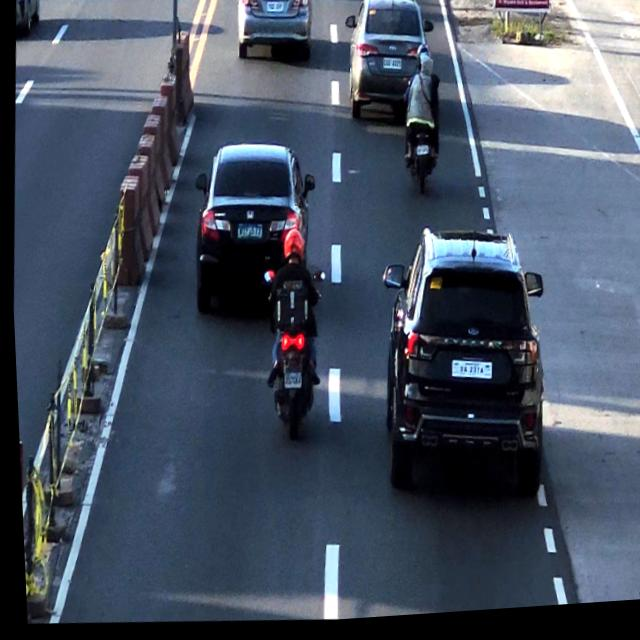Car: (368, 229, 556, 507), (183, 140, 312, 322), (342, 0, 435, 124), (225, 0, 319, 62)
License-Plate: (446, 361, 490, 391), (232, 222, 263, 245), (278, 372, 301, 396), (381, 59, 402, 80), (264, 2, 286, 16)
Motorcycle: (258, 234, 321, 460), (396, 54, 443, 195)
